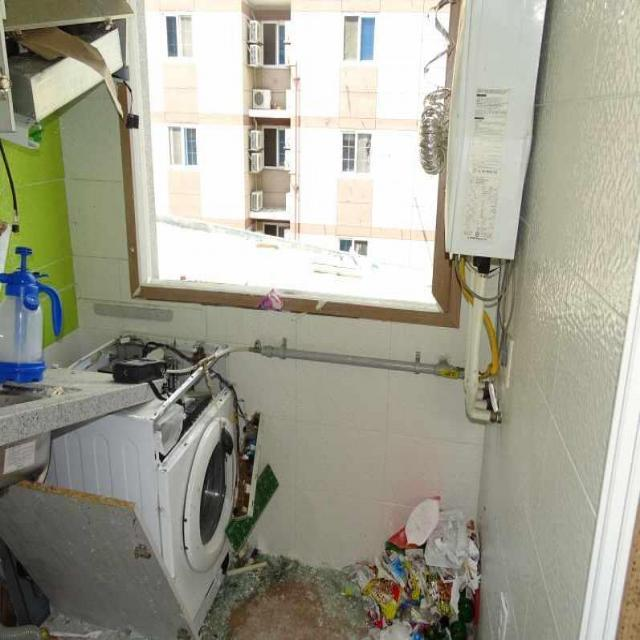Boiler: (427, 0, 561, 280)
